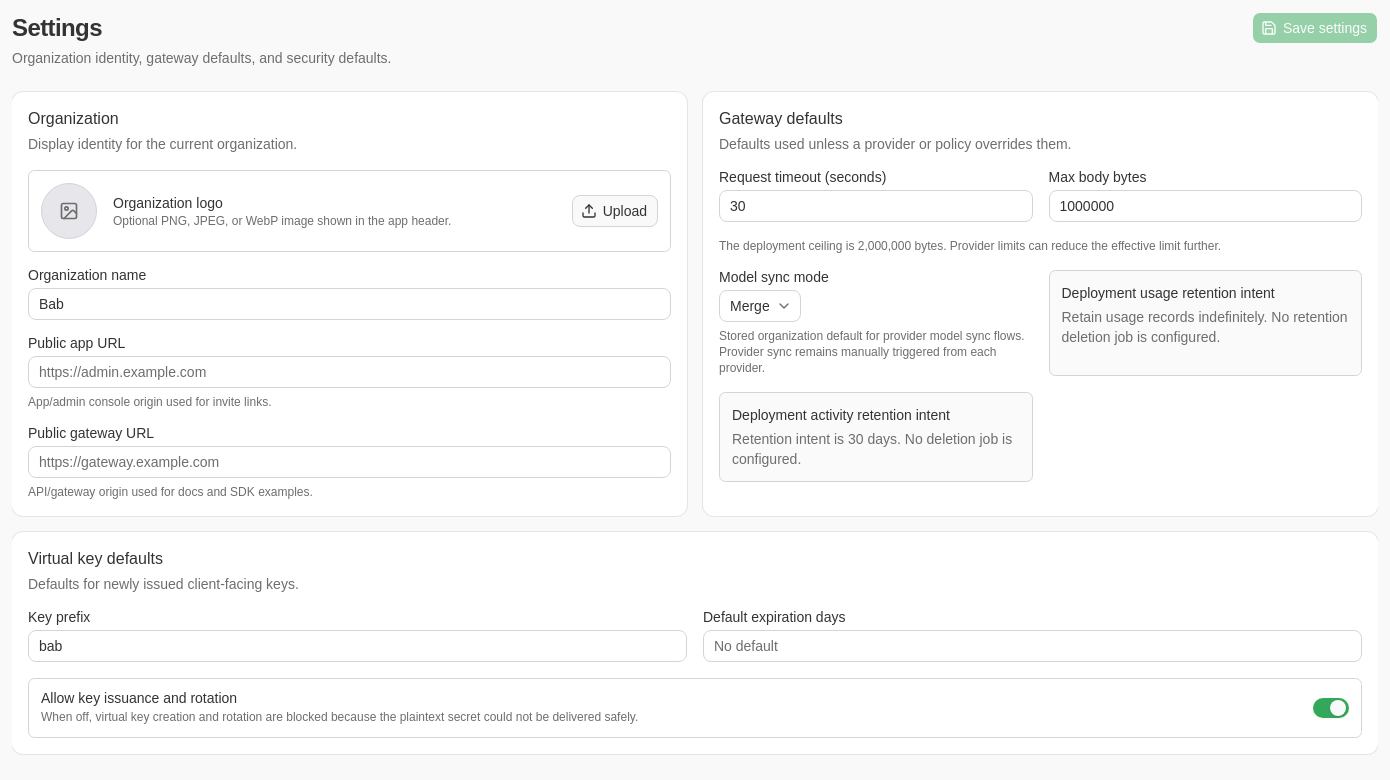
Test: SettingsPage › shows deployment-owned retention and enables save only for valid dirty values
Expected: the button "Save settings" is disabled, [1252,12,1378,44]
Expected: the text "Deployment usage retention intent" is shown, [1062,285,1275,301]
Step 1. Type "not-a-url" into the field labelled "Public app URL" → x=350, y=372, box [28,356,671,388]
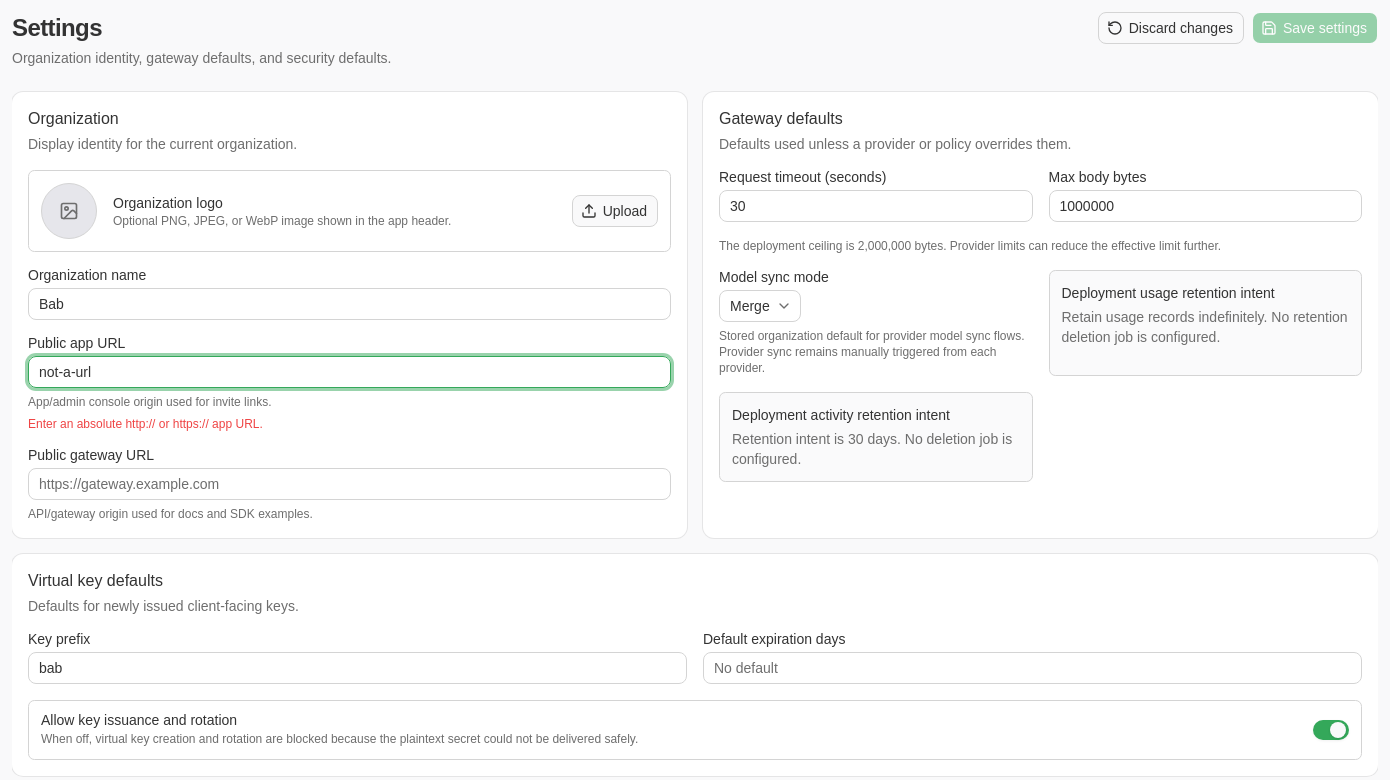
Expected: the button "Save settings" is disabled, [1252,12,1378,44]
Expected: the text "Enter an absolute http:// or https:// app URL." is shown, [28,417,263,431]
